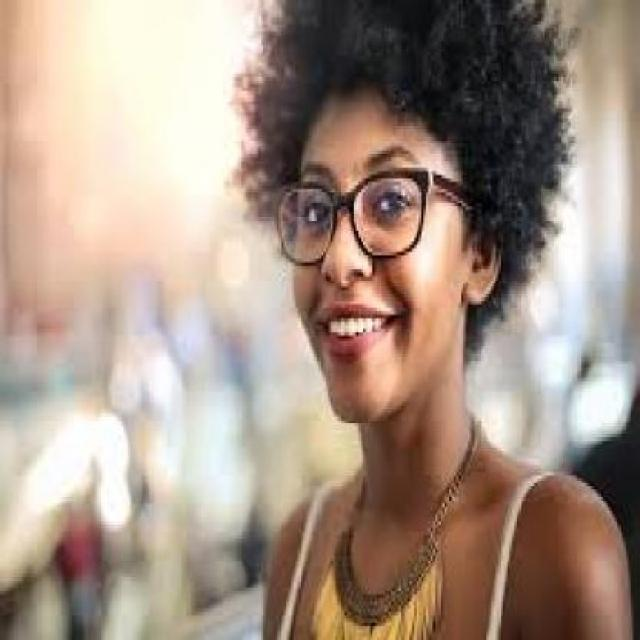glasses: (270, 164, 433, 259)
